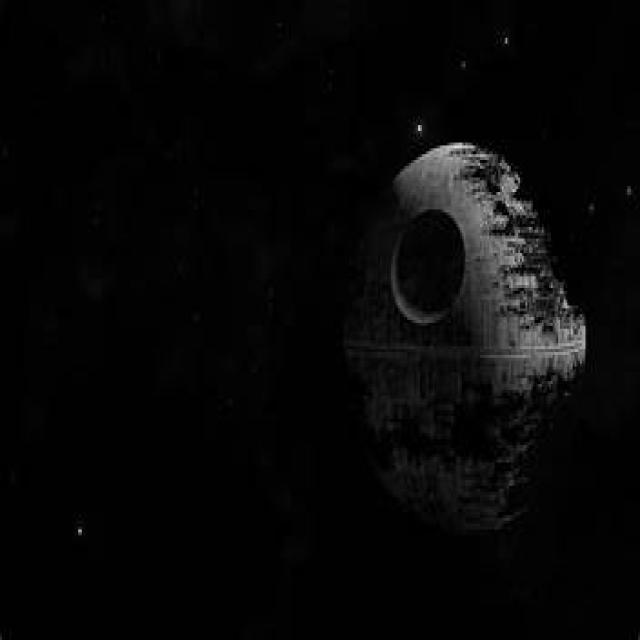deathStar: (343, 134, 589, 532)
